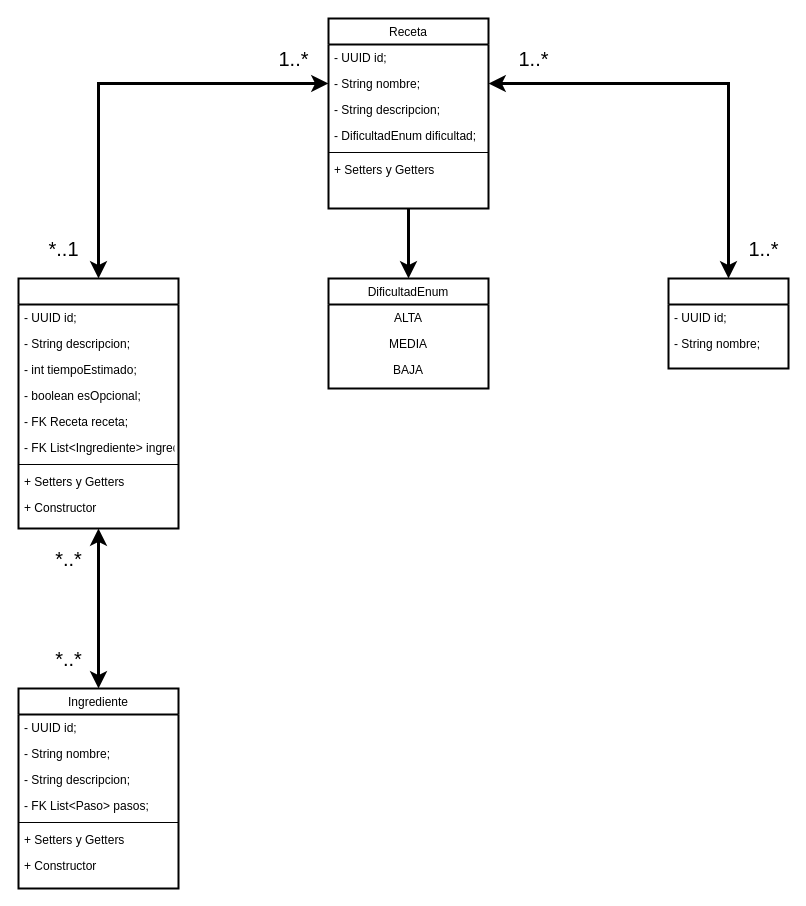
This 806x906 diagram has some shape labels left out. The shapes that lost their labels are listed below. From the top down, each one's box as (x1, y1, x2, y2) in pixels, then its label:
(667, 277, 789, 369): Categoria
(17, 277, 179, 529): Paso
